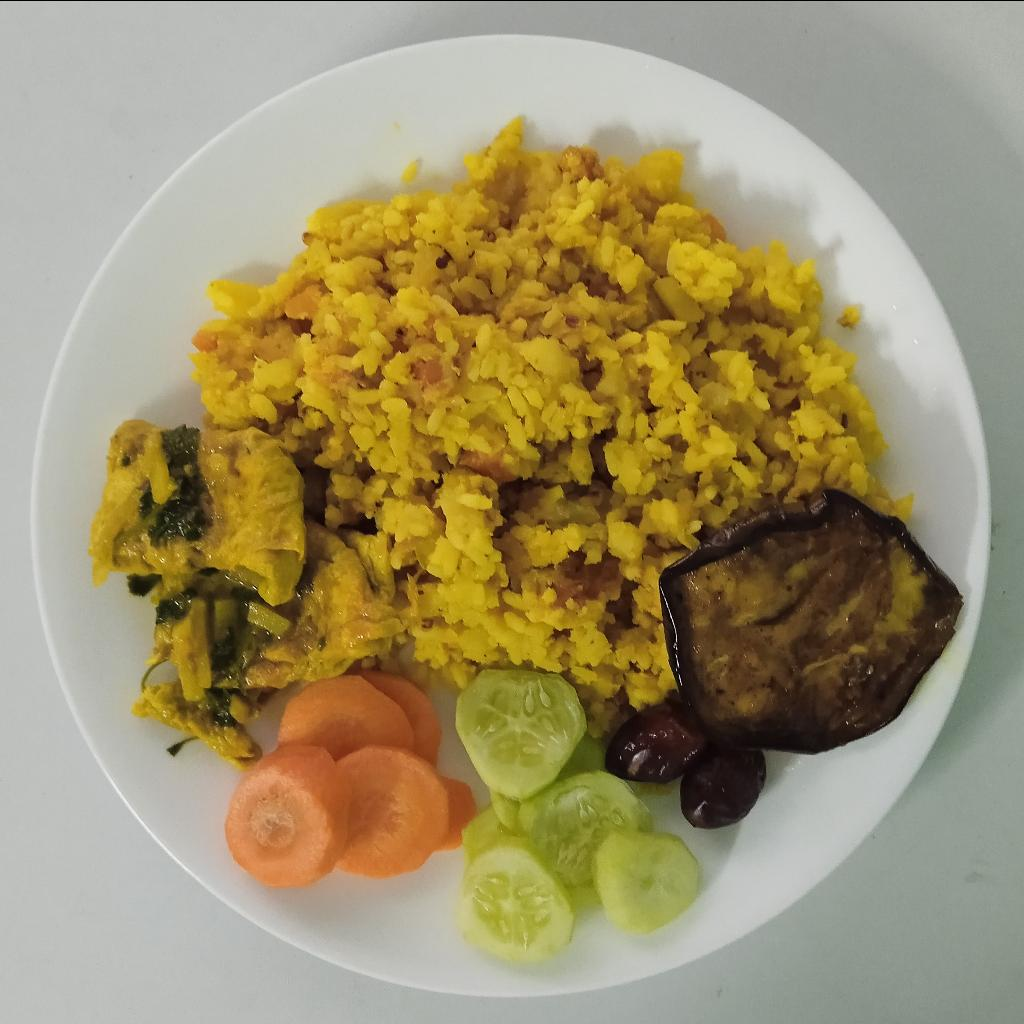begun-vaji: (655, 493, 963, 756)
carrot: (224, 667, 480, 889)
cucumber: (454, 669, 700, 965)
dates: (602, 708, 765, 831)
egg-poached: (92, 418, 407, 763)
khichuri: (192, 111, 919, 735)
